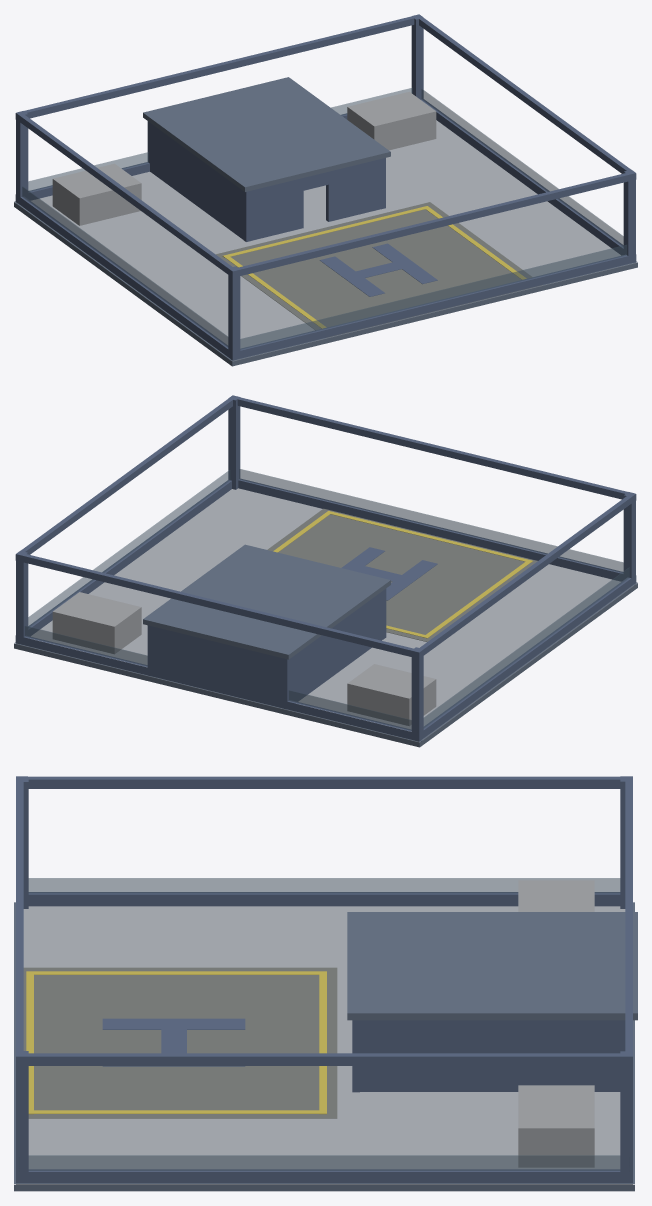
The model's file is office-roof-a.glass-v1.lod1.glb.
The picture shows the model from 3 angles, top to bottom: view 1: azimuth 30°, elevation 25°; view 2: azimuth 150°, elevation 25°; view 3: azimuth 270°, elevation 25°; orthographic projection. The views are drawn at different scales.
Visible parts, largest first — view 1: office-roof-a; view 2: office-roof-a; view 3: office-roof-a.
Part boxes in pixels (box(x1,y1,x2,y2)): office-roof-a: box(14, 14, 637, 366); office-roof-a: box(14, 395, 637, 747); office-roof-a: box(14, 776, 637, 1191).
Bounding box in the file's own units: 26.16 × 5.83 × 24.48.
